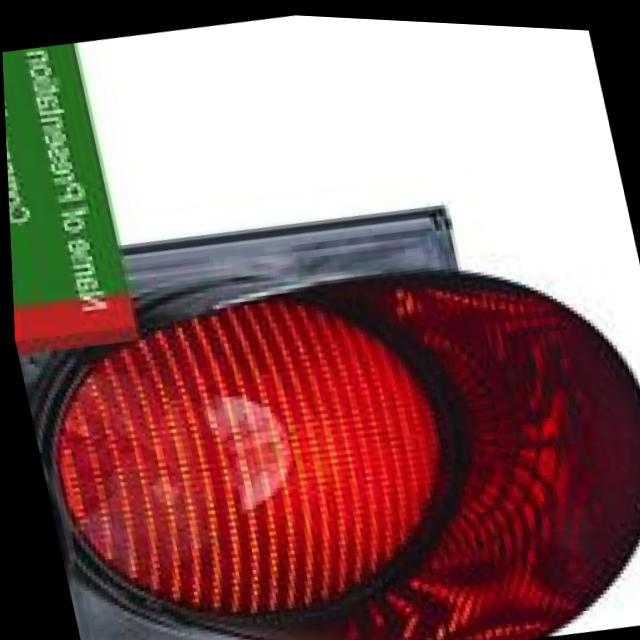red_light: (41, 161, 598, 640)
